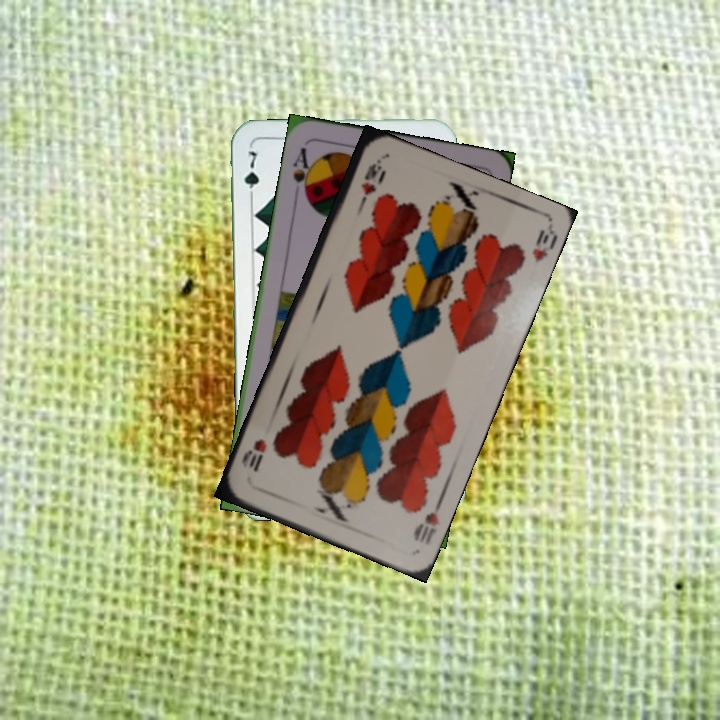G7: (240, 147, 262, 204)
H10: (409, 495, 446, 548), (354, 157, 385, 214)
SA: (289, 143, 316, 202)
